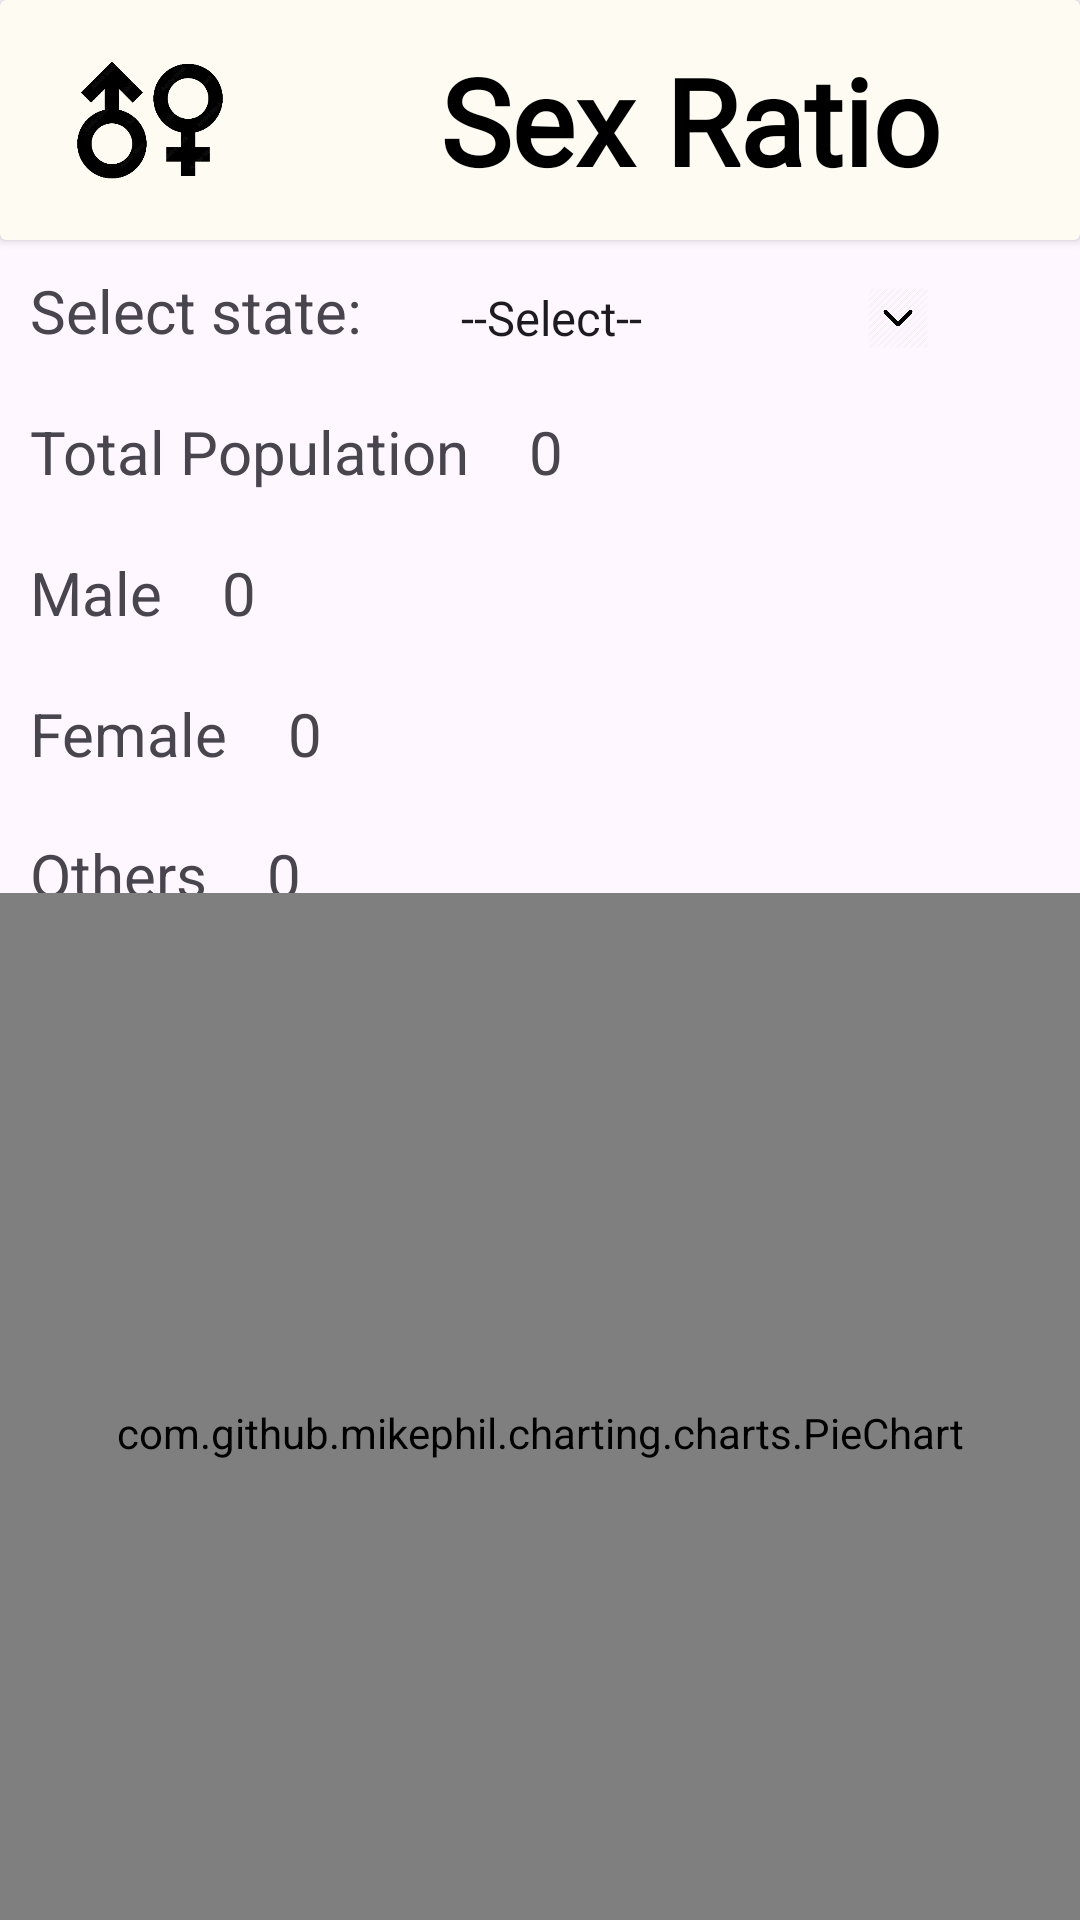

Locate icon controls on the screen. Image size 1080×1920, boxes as [x1=x1, y1=y1, x2=x2, y2=y2].
drop down: [x1=883, y1=310, x2=913, y2=326]
